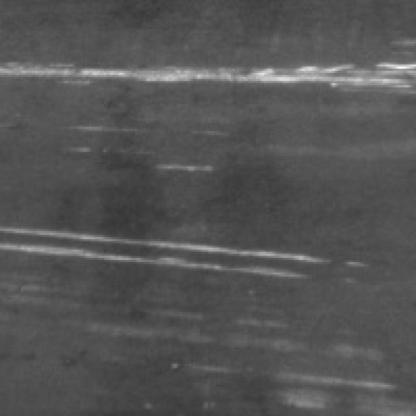scratches: (0, 50, 412, 102), (0, 218, 333, 281)
